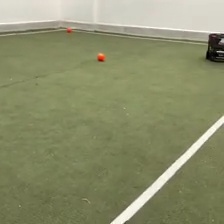ball: (96, 51, 105, 62), (65, 25, 72, 34)
robot: (204, 30, 224, 63)
